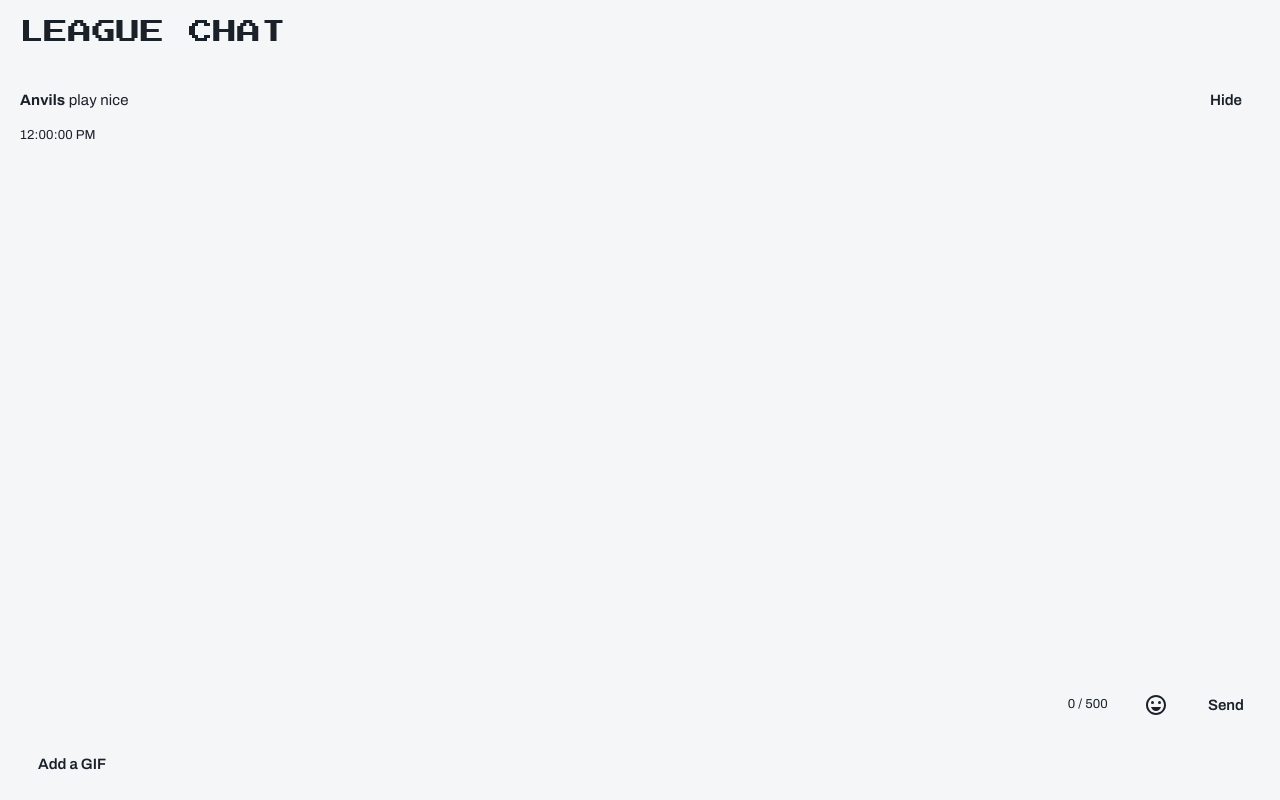
the GIF composer Cancel is distinct from the moderation Cancel in the same region
The width and height of the screenshot is (1280, 800).
Expected: the text "play nice" is shown, [69,92,129,108]
Open both forms.
Click the button with aria-label "Hide message from Anvils": (1226, 100) [1192,78,1260,122]
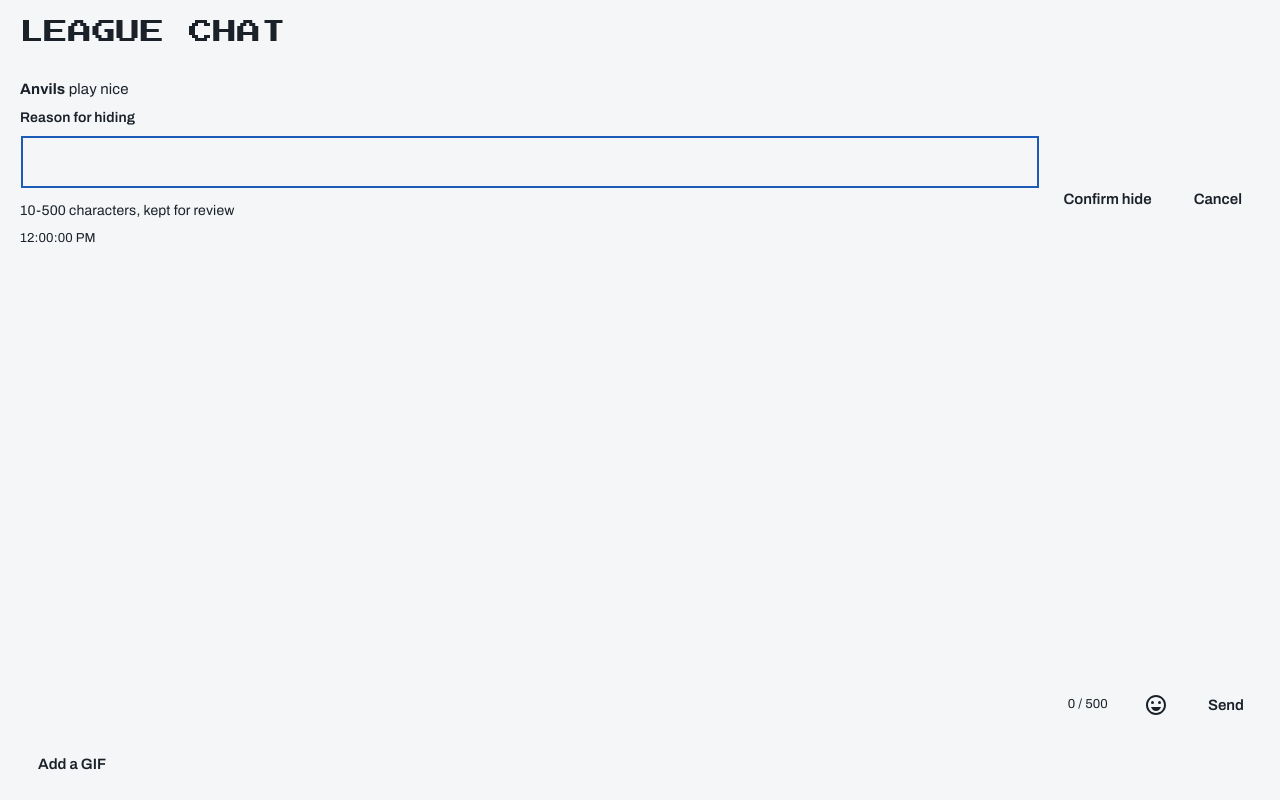
Click the button with test id "gif-picker-trigger": (72, 764) [20,742,124,786]
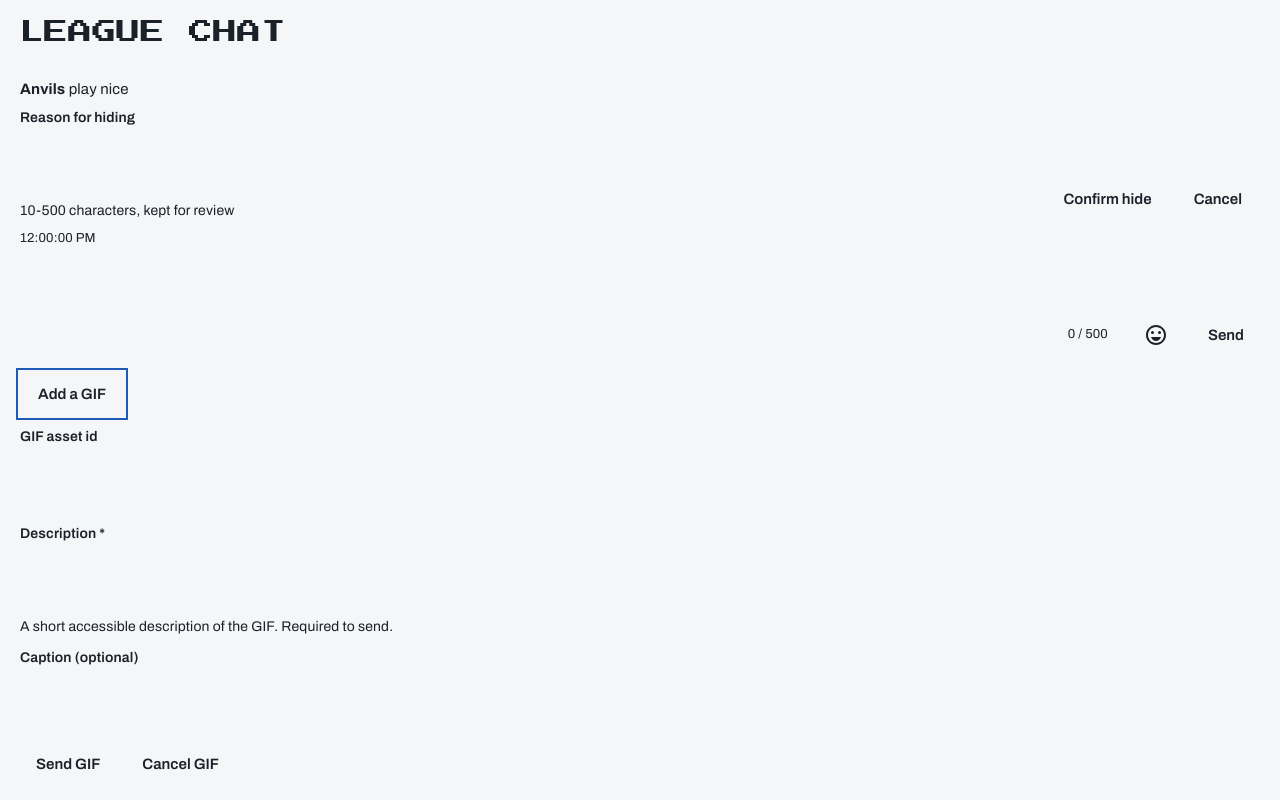
Expected: the number of buttons "Cancel" is 1, [1176,176,1260,220]
Expected: the button "Cancel GIF" is shown, [124,742,237,786]
